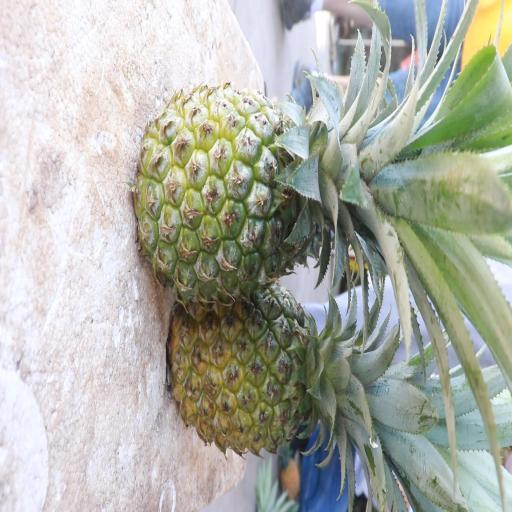------------------------------: (129, 68, 355, 284)
Pineapple - v8 v1: (168, 296, 376, 454)
